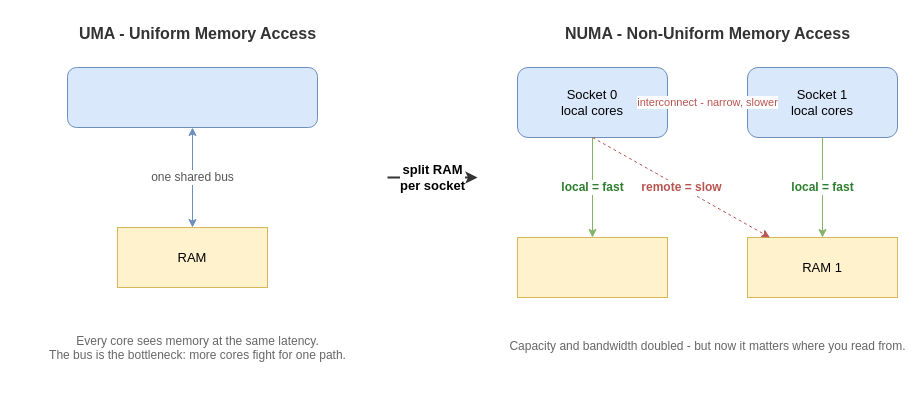
The diagram is 922 pixels wide and 394 high, and some of its shapes have lost their labels. The centre of each missing label's shape, as x and y in pixels:
"CPU - all cores" goes at pixel 192 97.
"RAM 0" goes at pixel 592 267.
